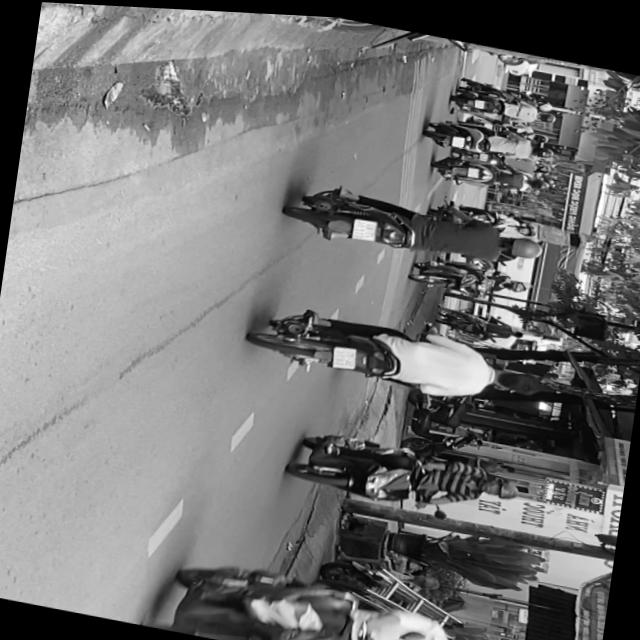helmet: (501, 229, 545, 258), (482, 471, 520, 496), (441, 638, 507, 640)
licenseplate: (140, 541, 515, 640), (247, 292, 542, 412), (282, 171, 548, 277), (285, 419, 526, 526)
motorcyclist: (488, 360, 538, 392)
nohelmet: (332, 341, 358, 367), (352, 214, 378, 238)
